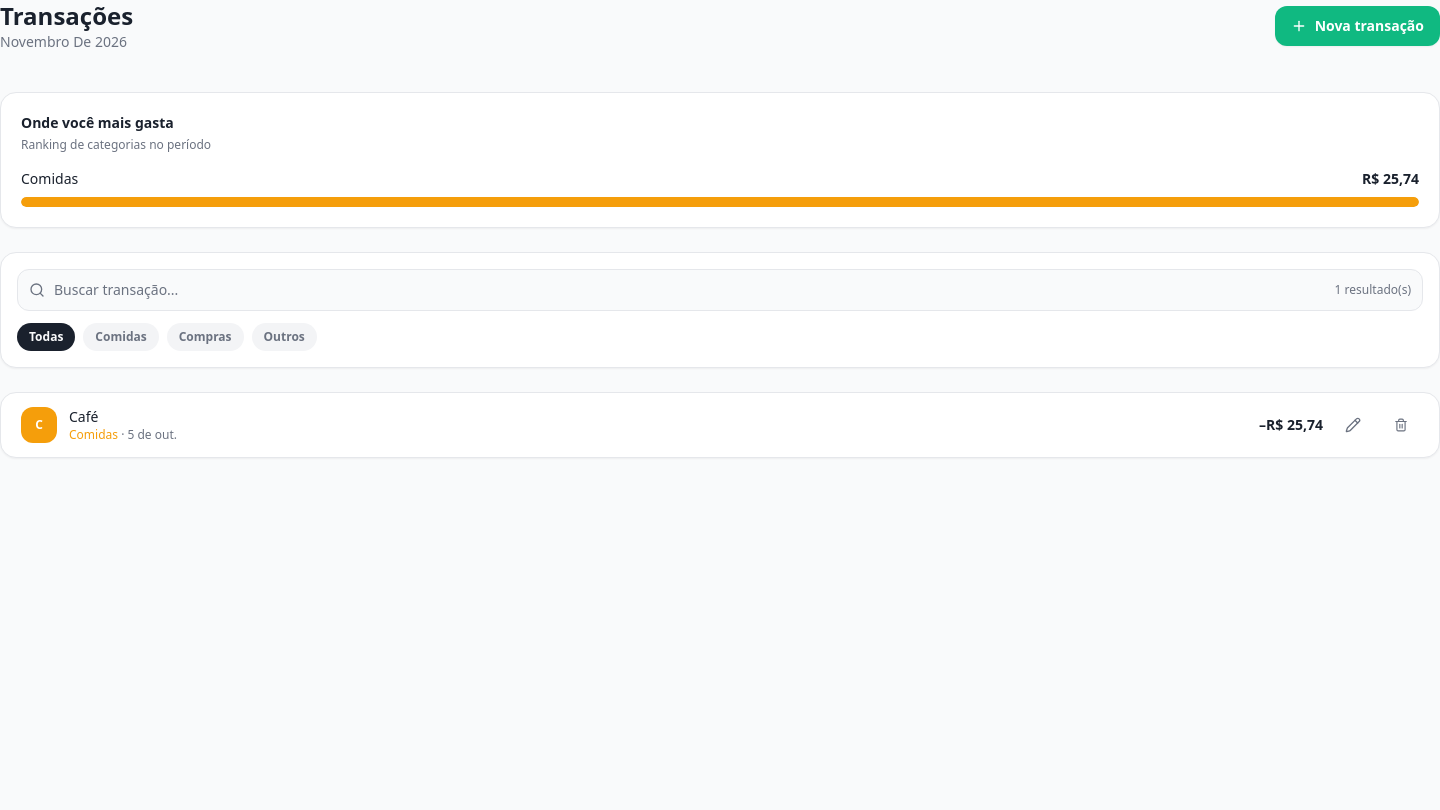
Test case: shows categories without expenses and refreshes the list and category filters after editing
This screenshot has width=1440, height=810.
expect the button named "Editar Café" is shown: met, box [1335, 407, 1371, 443]
Step 1. Click the button "Compras" → (205, 337), box [167, 323, 244, 351]
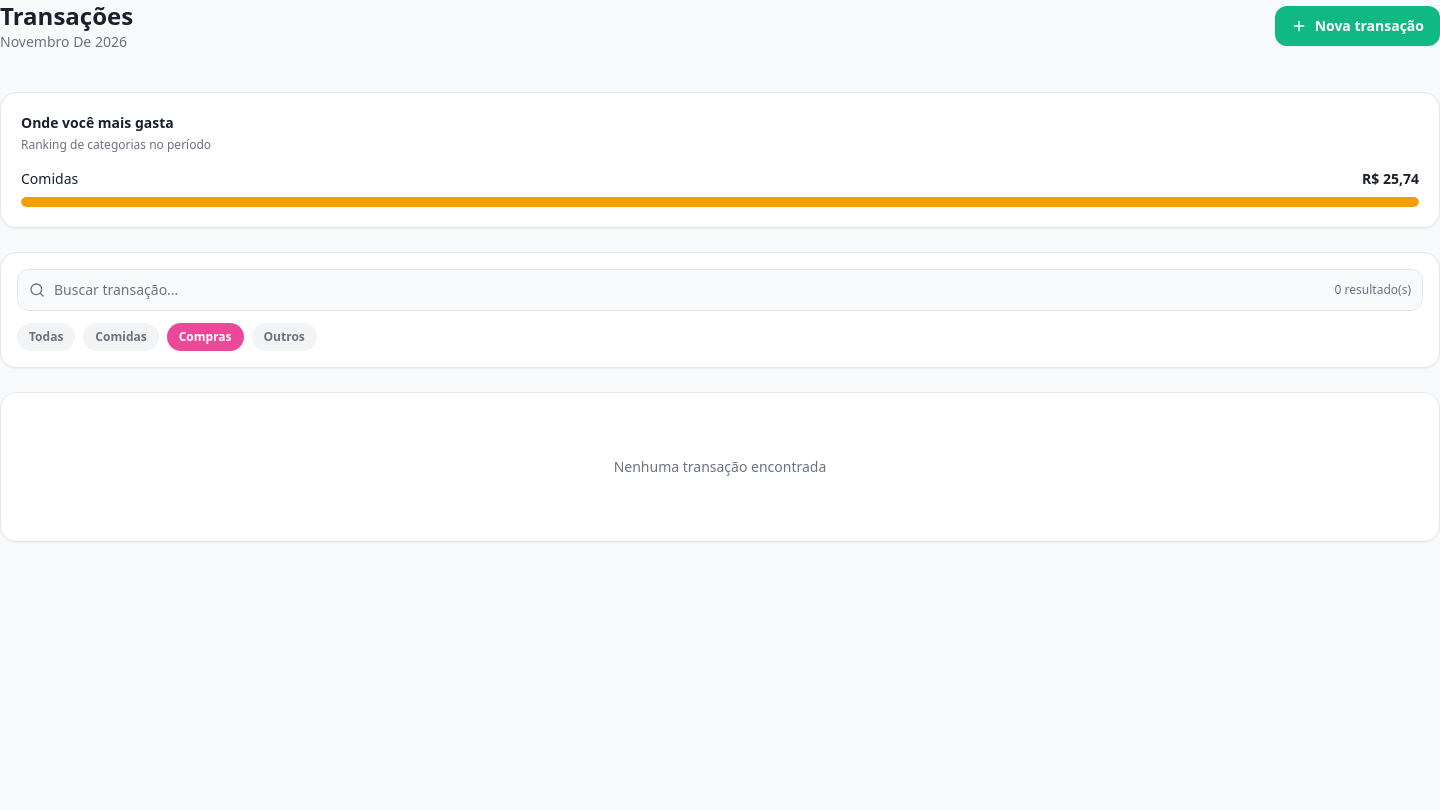
expect the button "Outros" is shown: met, box [252, 323, 317, 351]
expect the text "Nenhuma transação encontrada" is shown: met, box [614, 457, 826, 477]
Step 2. Click the button "Todas" → (46, 337), box [17, 323, 75, 351]
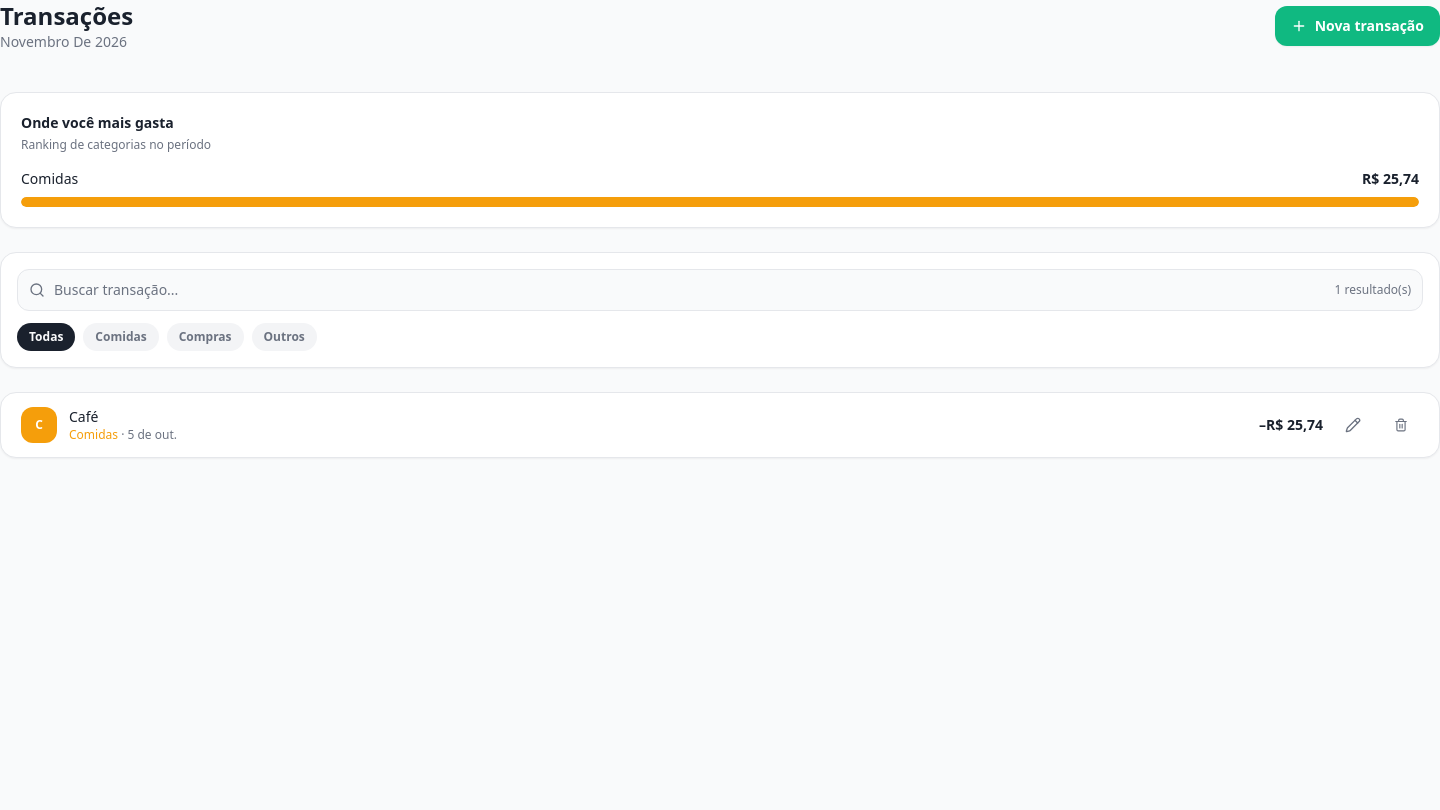
Step 3. Click the button named "Editar Café" → (1353, 425), box [1335, 407, 1371, 443]
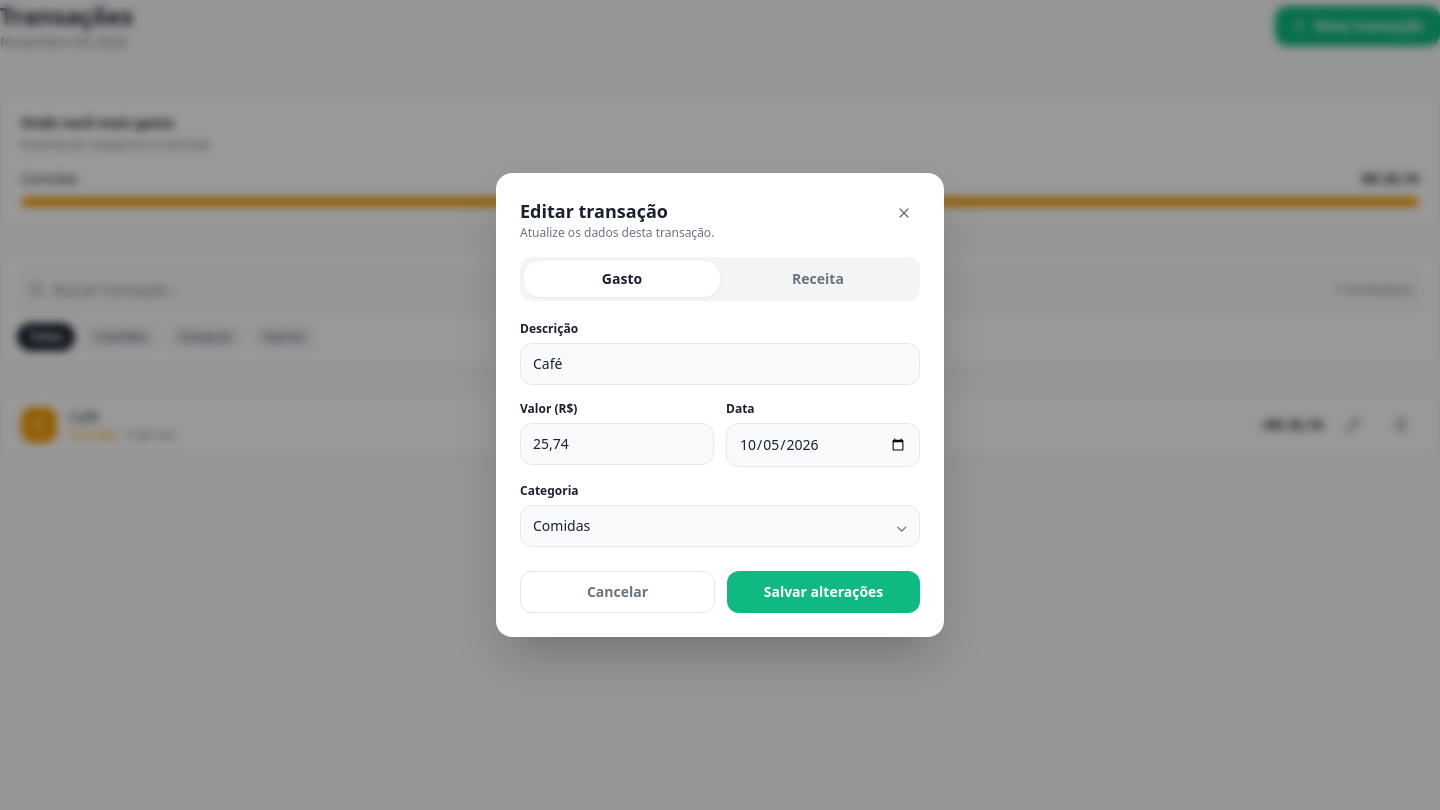
expect the dropdown labelled "Categoria" shows "Comidas": met, box [520, 505, 920, 547]
Step 4. Replace the text in the field labelled "Descrição" with "Café corrigido" → (720, 364), box [520, 343, 920, 385]
Step 5. Select "Compras" in the dropdown labelled "Categoria" → (720, 526), box [520, 505, 920, 547]
Step 6. Click the button "Salvar alterações" → (824, 592), box [727, 571, 920, 613]
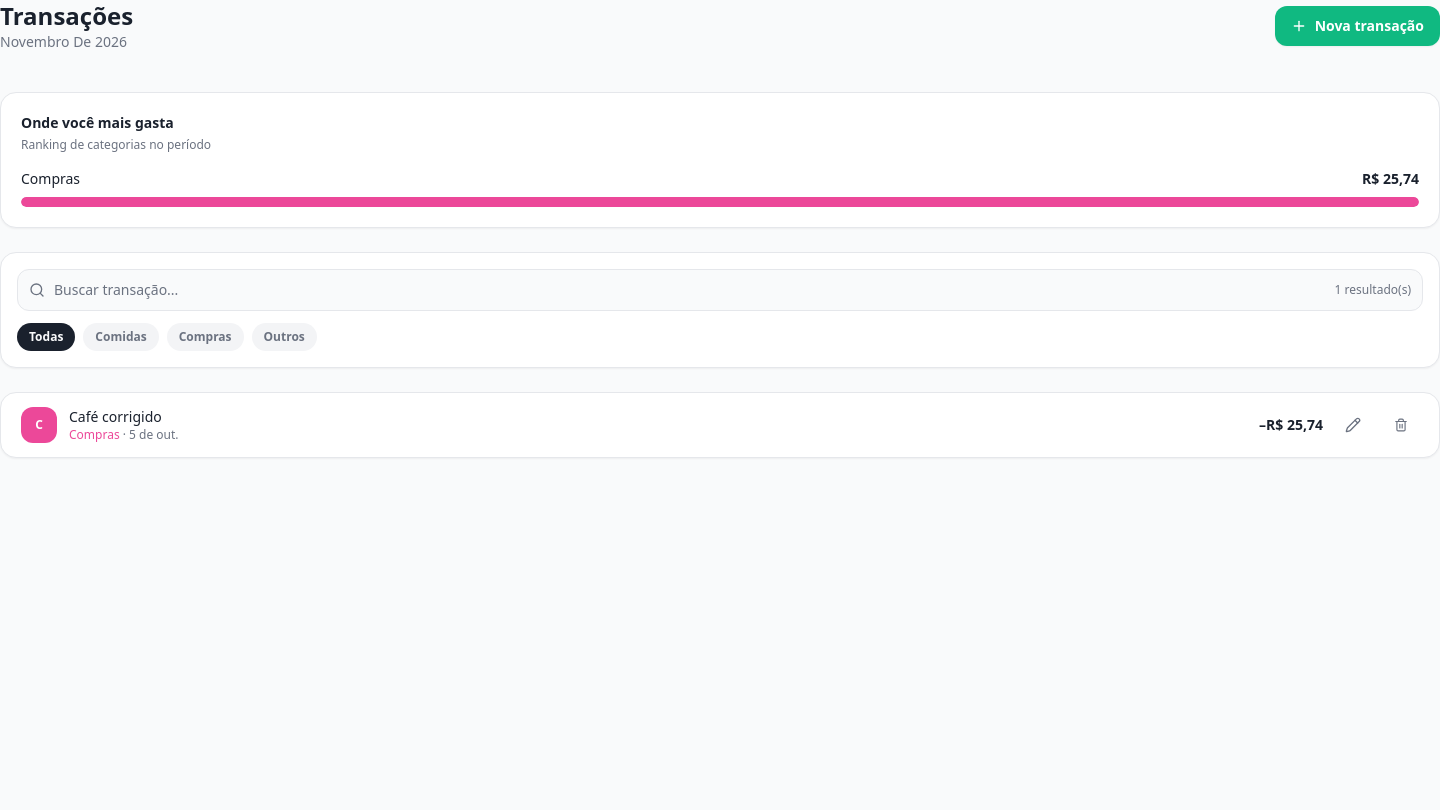
expect the button named "Editar Café corrigido" is shown: met, box [1335, 407, 1371, 443]
expect the dialog is gone: met
Step 7. Click the button "Compras" → (205, 337), box [167, 323, 244, 351]
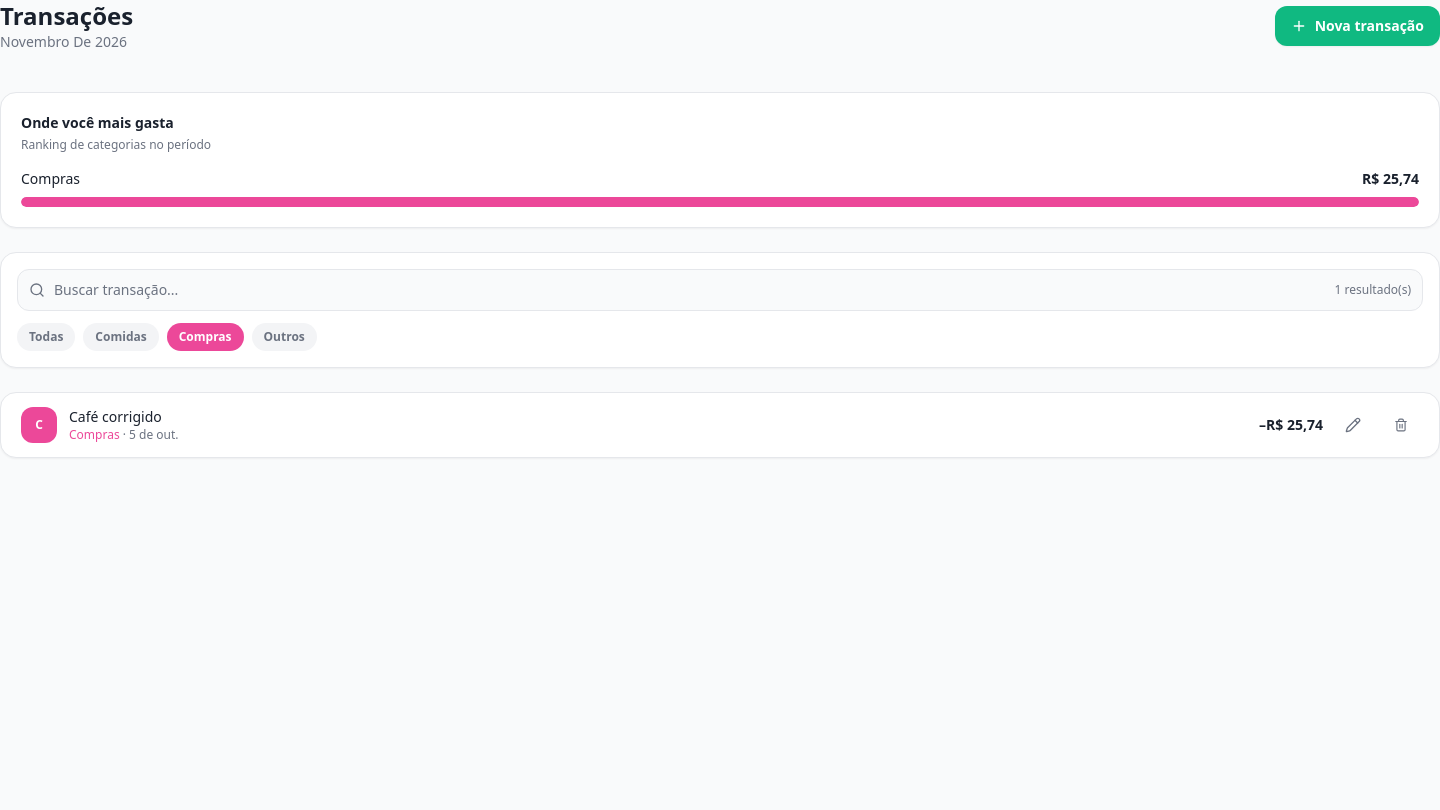
expect the text "Café corrigido" is shown: met, box [69, 407, 162, 426]
Step 8. Click the button "Comidas" → (121, 337), box [83, 323, 159, 351]
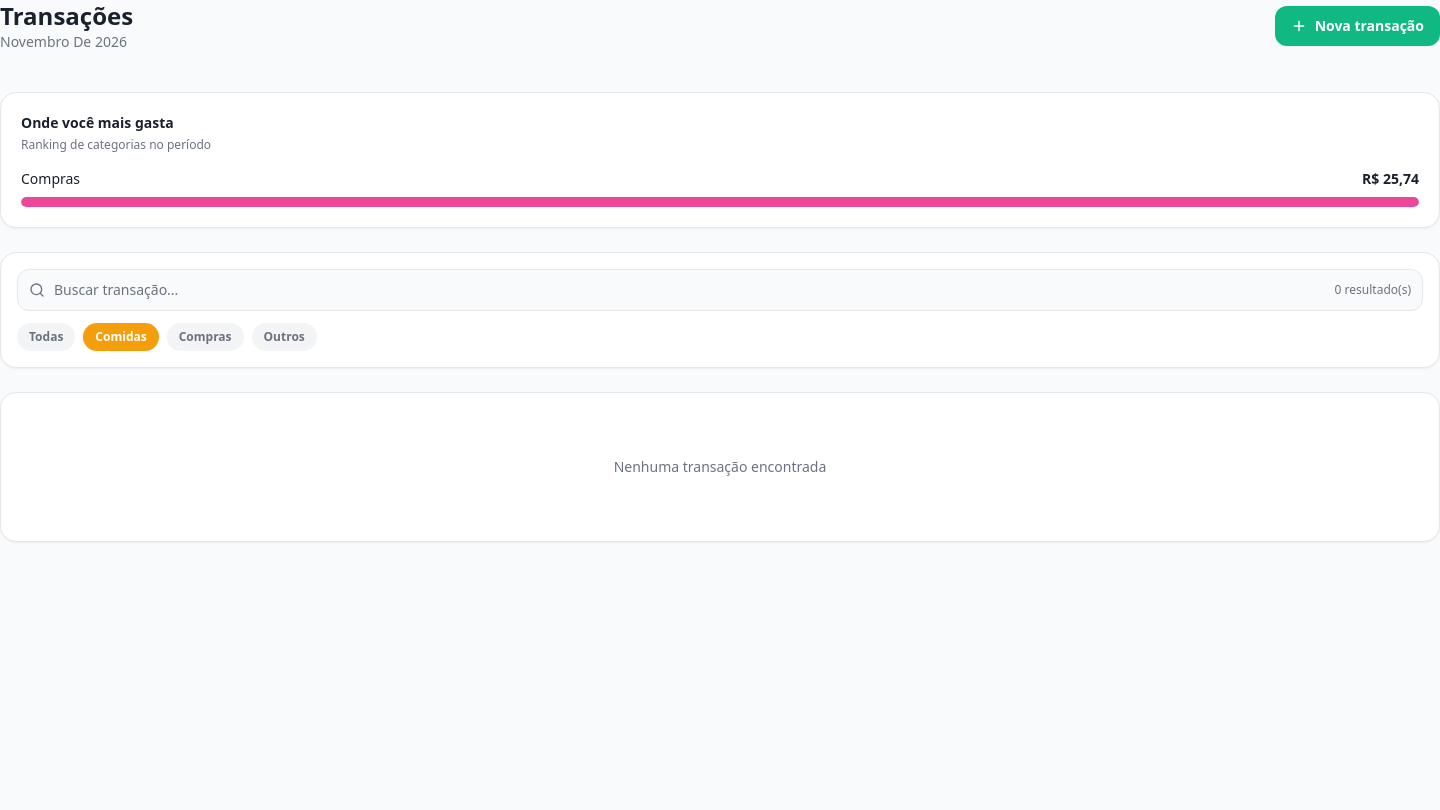
expect the text "Nenhuma transação encontrada" is shown: met, box [614, 457, 826, 477]
